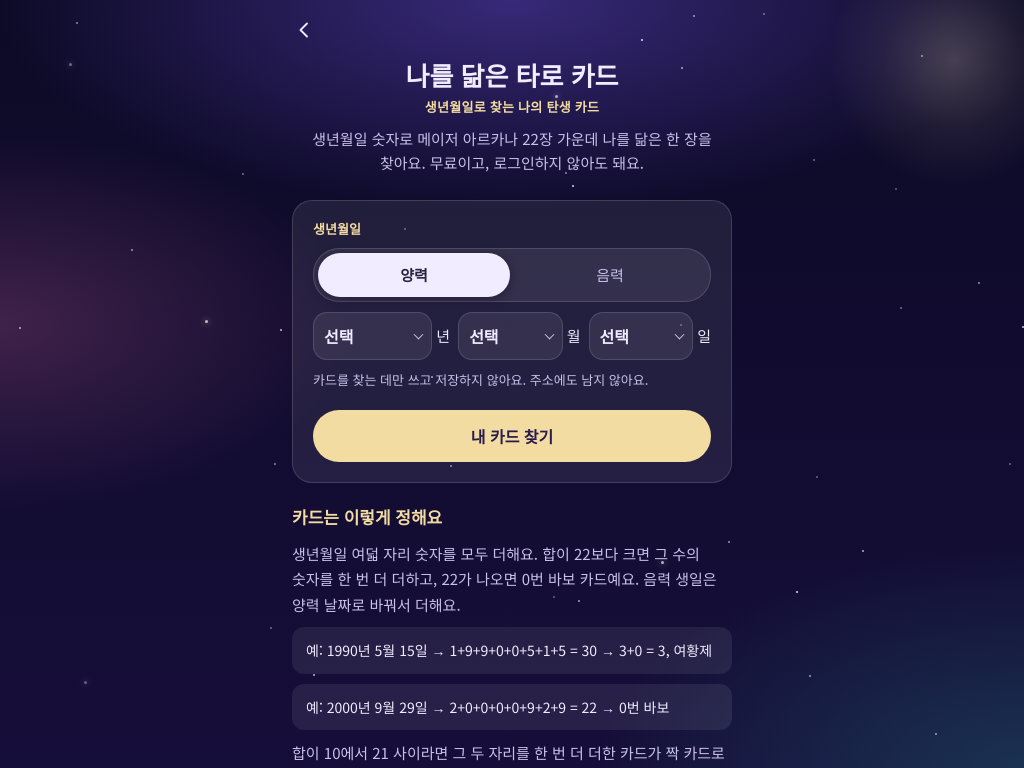
Test case: /birth-card, the form › says what is missing and goes nowhere until the date is whole
Select "1990" in the dropdown named "태어난 연도" at (373, 336), box [313, 312, 432, 360]
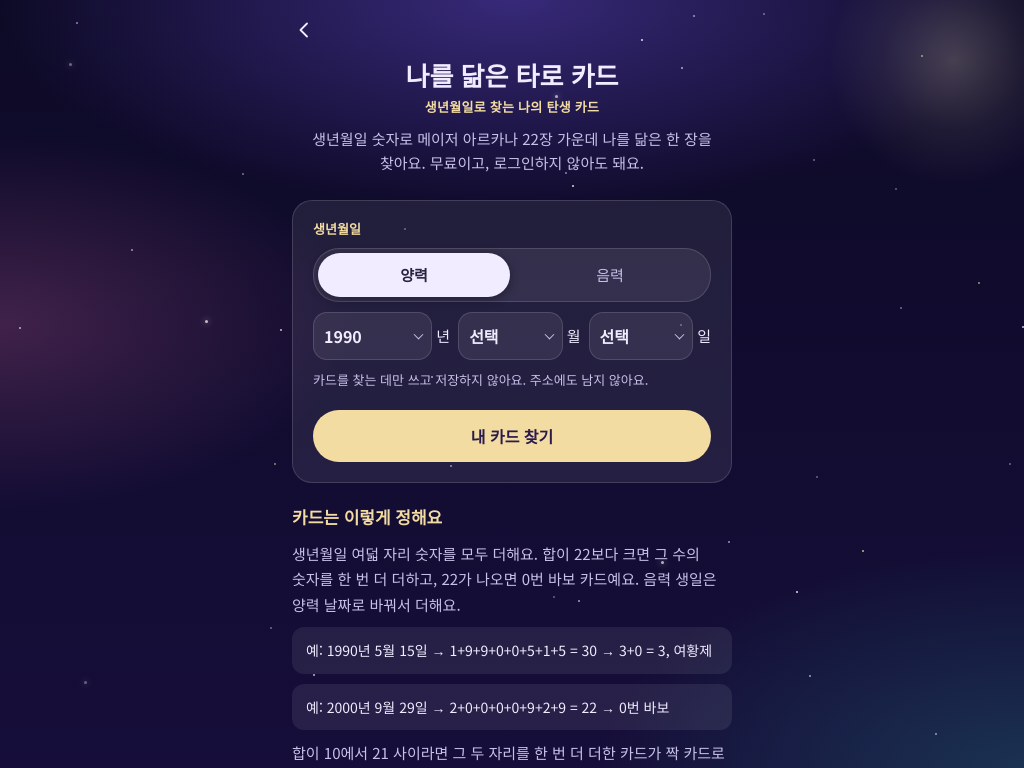
Click the button "내 카드 찾기" at (512, 436), box [313, 410, 711, 462]
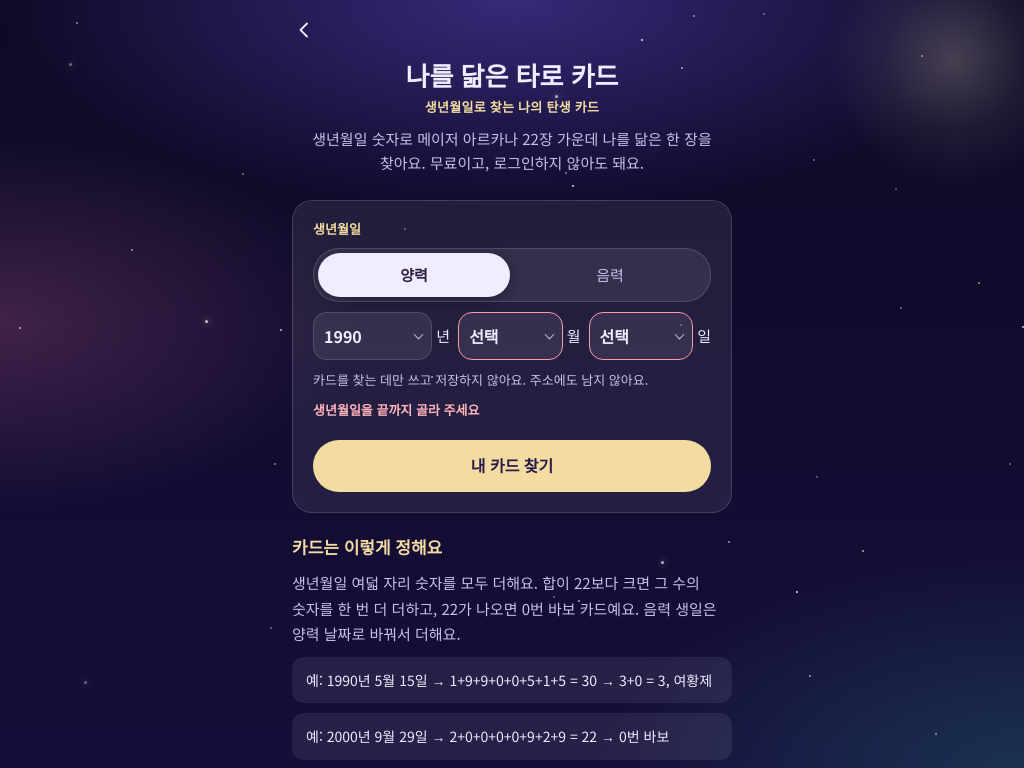
Check: the message reads "생년월일을 끝까지 골라 주세요", box [313, 400, 479, 419]
Note: Picking again clears the message at once.
Select "5" in the dropdown named "태어난 월" at (510, 336), box [458, 312, 563, 360]
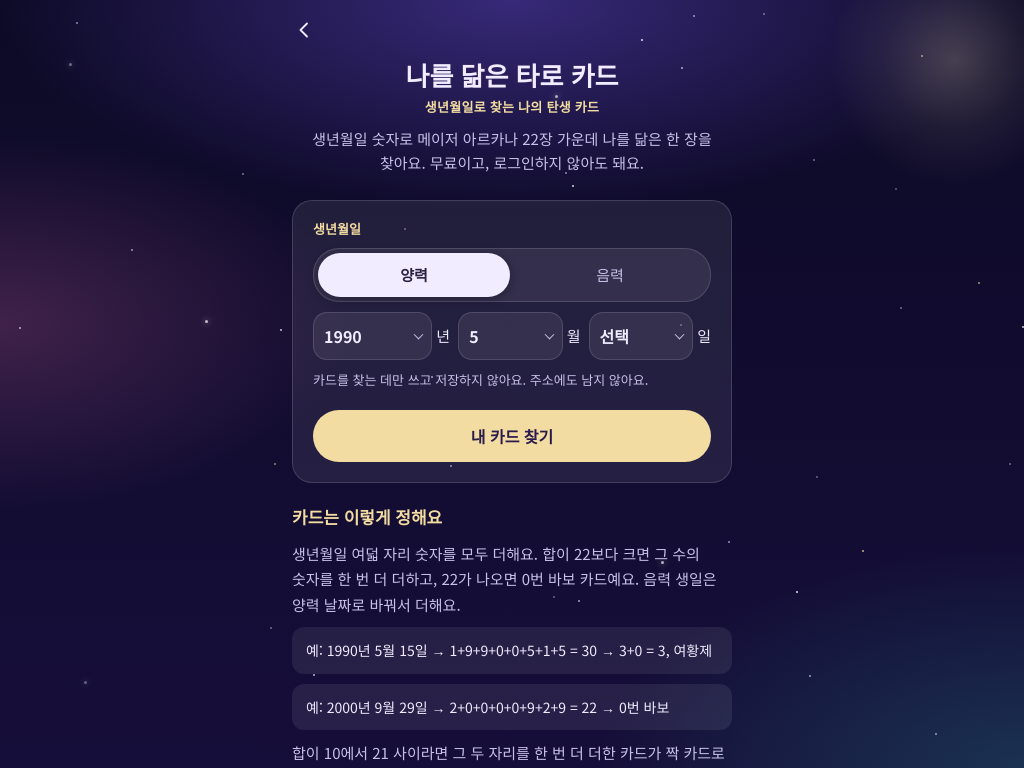
Check: the message "생년월일을 끝까지 골라 주세요" is gone
